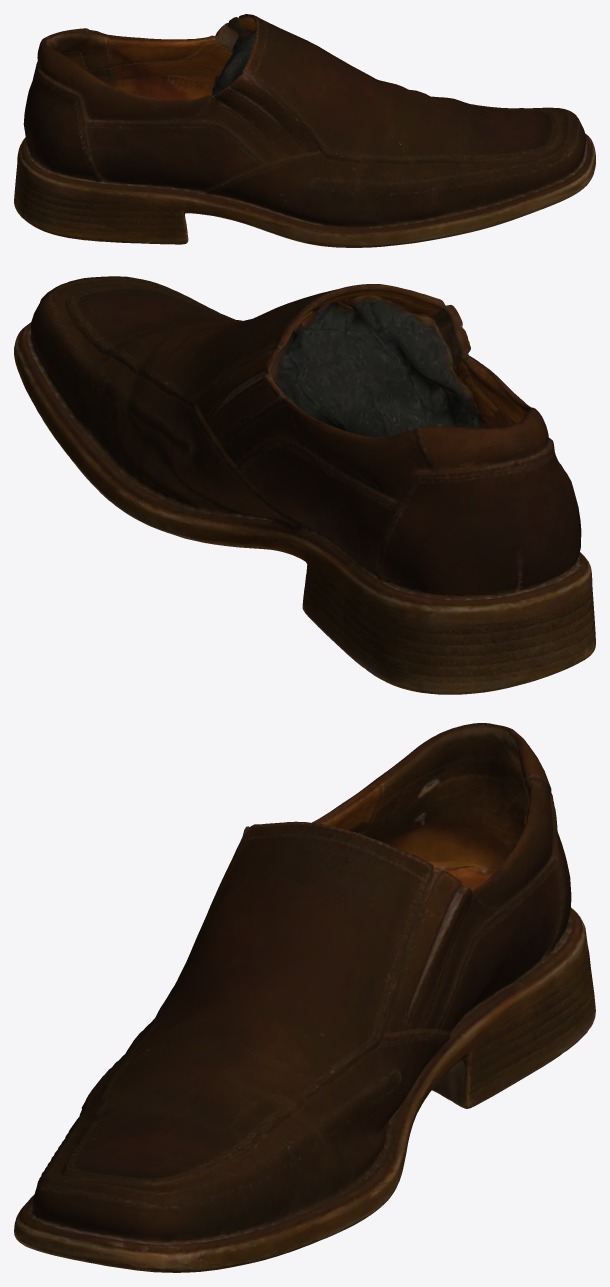
Rendered from old_oxford_shoe.glb.
3 views of the same model, one above another, from view 1: azimuth 30°, elevation 25°; view 2: azimuth 150°, elevation 25°; view 3: azimuth 270°, elevation 25° (orthographic). The views are drawn at different scales.
Visible parts, largest first — view 1: Object_2; view 2: Object_2; view 3: Object_2.
Boxes of the visible parts, x1,y1,x2,y2 form: Object_2: [14, 14, 595, 247]; Object_2: [14, 276, 595, 694]; Object_2: [14, 723, 595, 1272].
Size of the model in its own units: 0.2859 by 0.1074 by 0.1912.
1 material, 1 textured.
